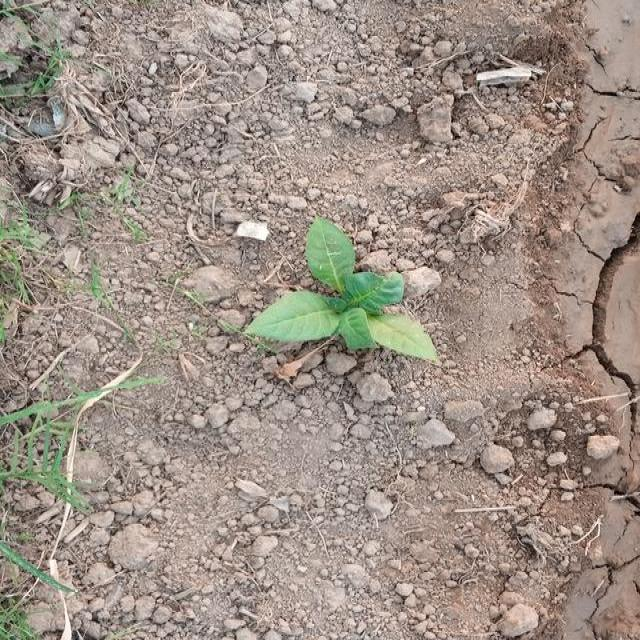crop: (262, 220, 433, 373)
